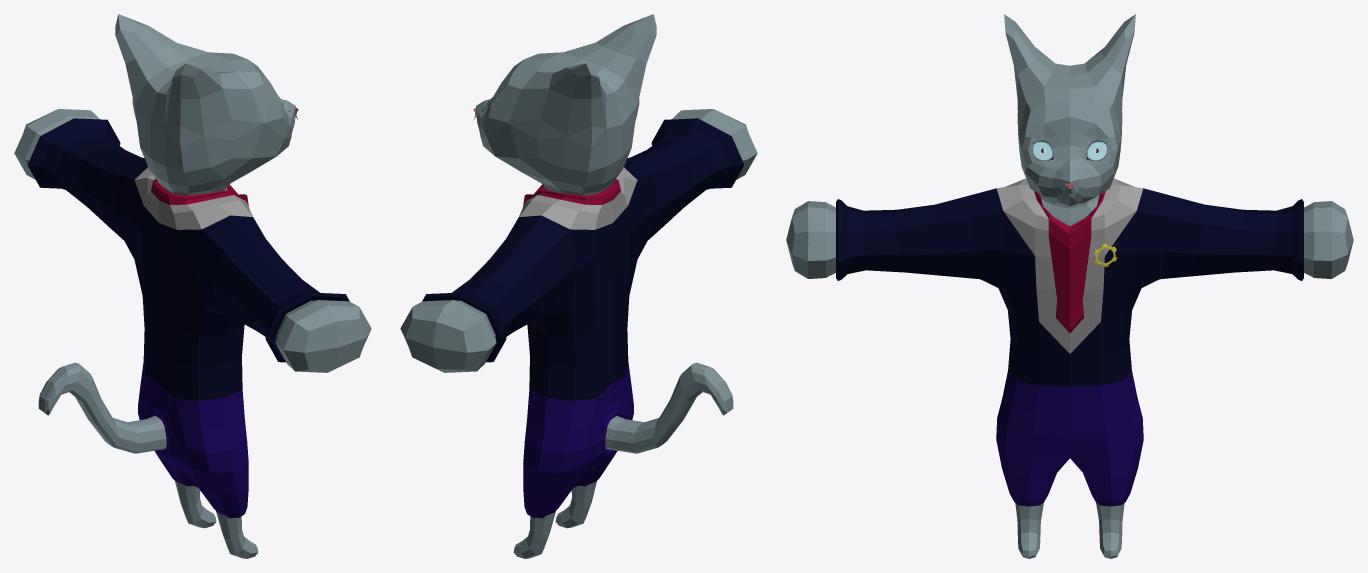
Rendered from Gato.fbx.
The picture shows the model from 3 angles, left to right: view 1: azimuth 30°, elevation 25°; view 2: azimuth 150°, elevation 25°; view 3: azimuth 270°, elevation 25°; orthographic projection. The views are drawn at different scales.
Visible parts, largest first — view 1: Chaqueta.001, Cuerpo.001; view 2: Chaqueta.001, Cuerpo.001; view 3: Chaqueta.001, Cuerpo.001, Ojos.001.
Boxes of the visible parts, x1,y1,x2,y2 form: Chaqueta.001: (27, 118, 349, 518); Cuerpo.001: (14, 14, 371, 558); Chaqueta.001: (422, 118, 744, 518); Cuerpo.001: (400, 14, 757, 558); Chaqueta.001: (836, 178, 1303, 506); Cuerpo.001: (786, 14, 1353, 558); Ojos.001: (1032, 140, 1107, 161).
Bounding box in the file's own units: 177 × 346 × 351.
Materials: 7 (1 with a texture image).
